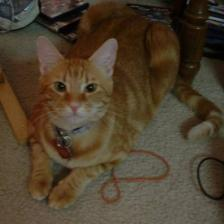cat: (32, 34, 122, 129)
